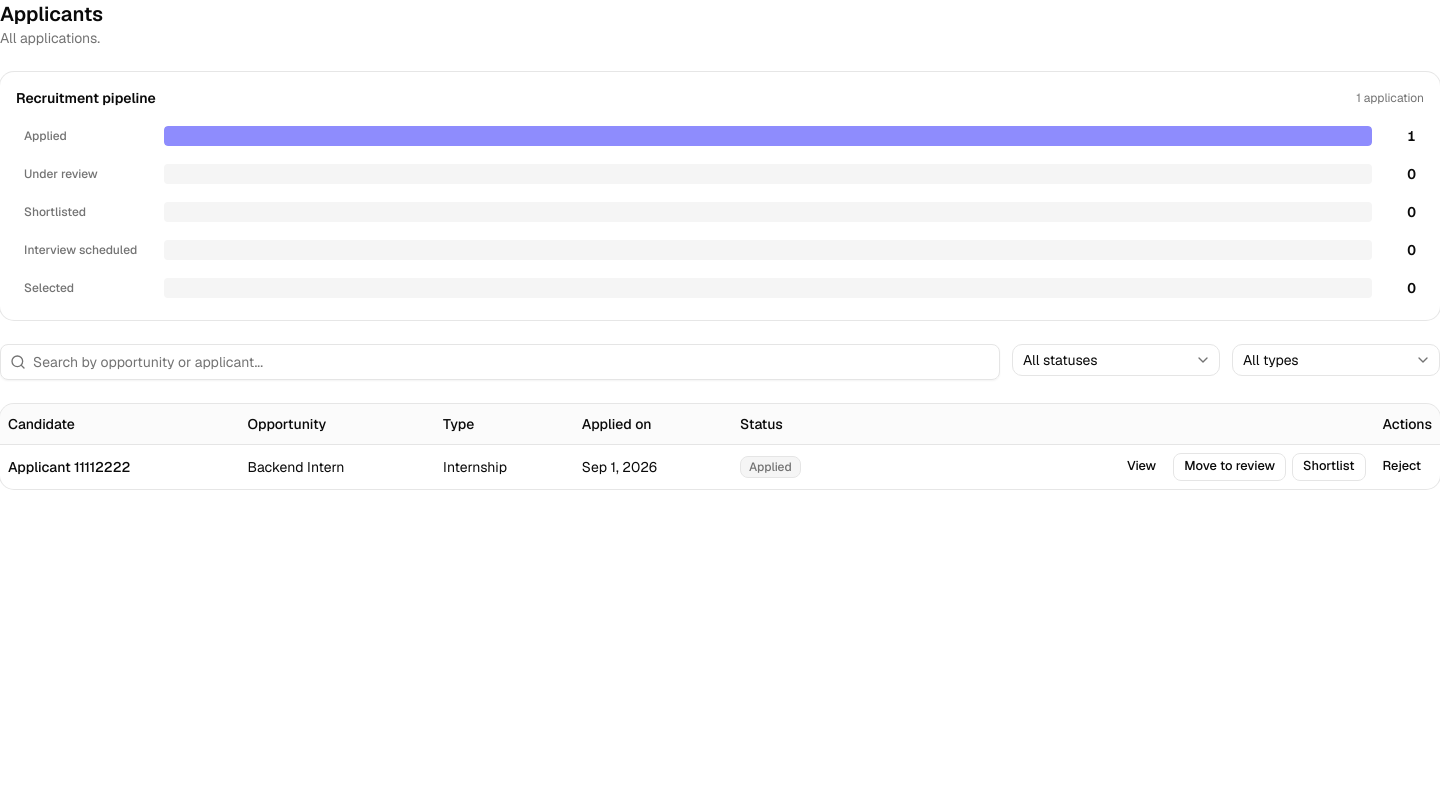
it: RecruitmentApplications › surfaces a 409 stale-transition from the API
Click the button "Shortlist".
click(1329, 466)  # box 1292,452 -> 1366,480
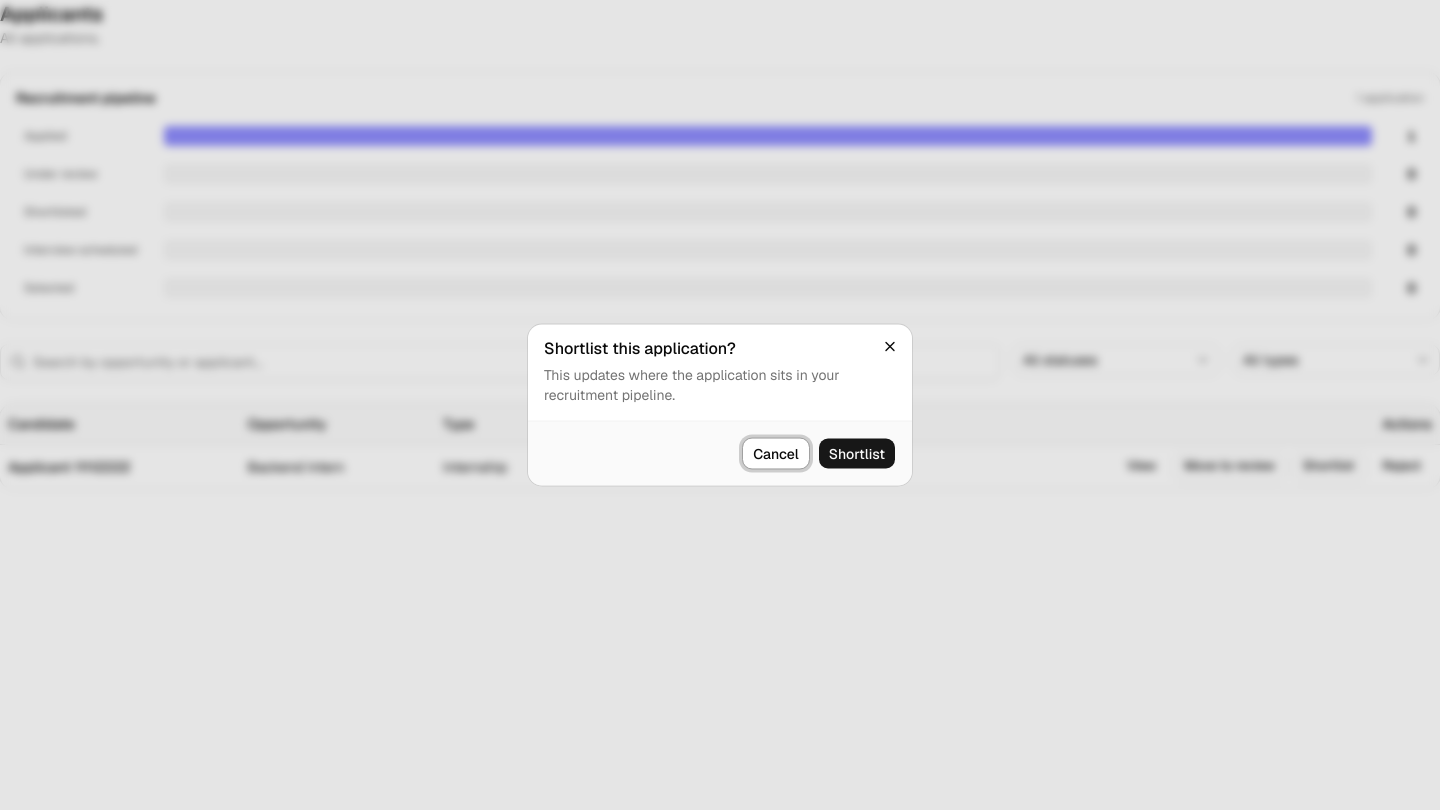
Click the button "Shortlist".
click(857, 454)  # box 818,438 -> 896,470
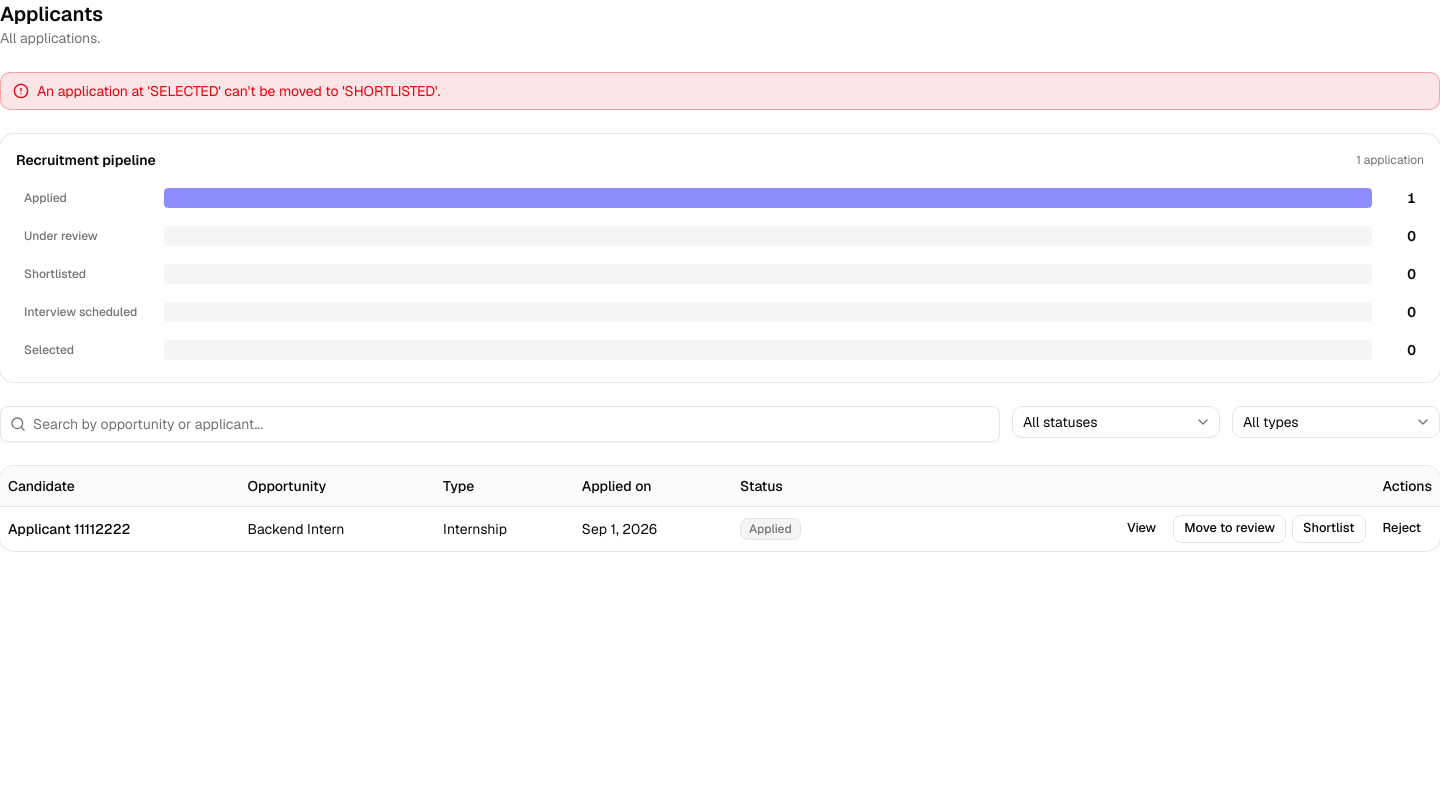
Expected: the text "can't be moved" is shown, 37,82 -> 440,100
